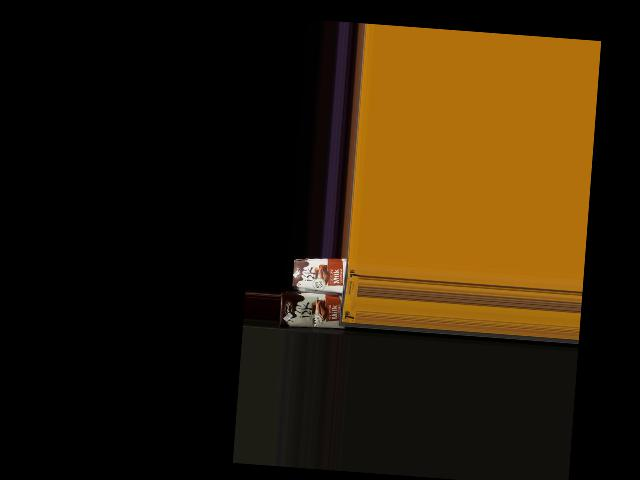chocolate: (290, 251, 353, 293)
